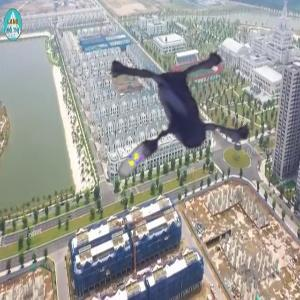drone: (56, 11, 272, 227)
